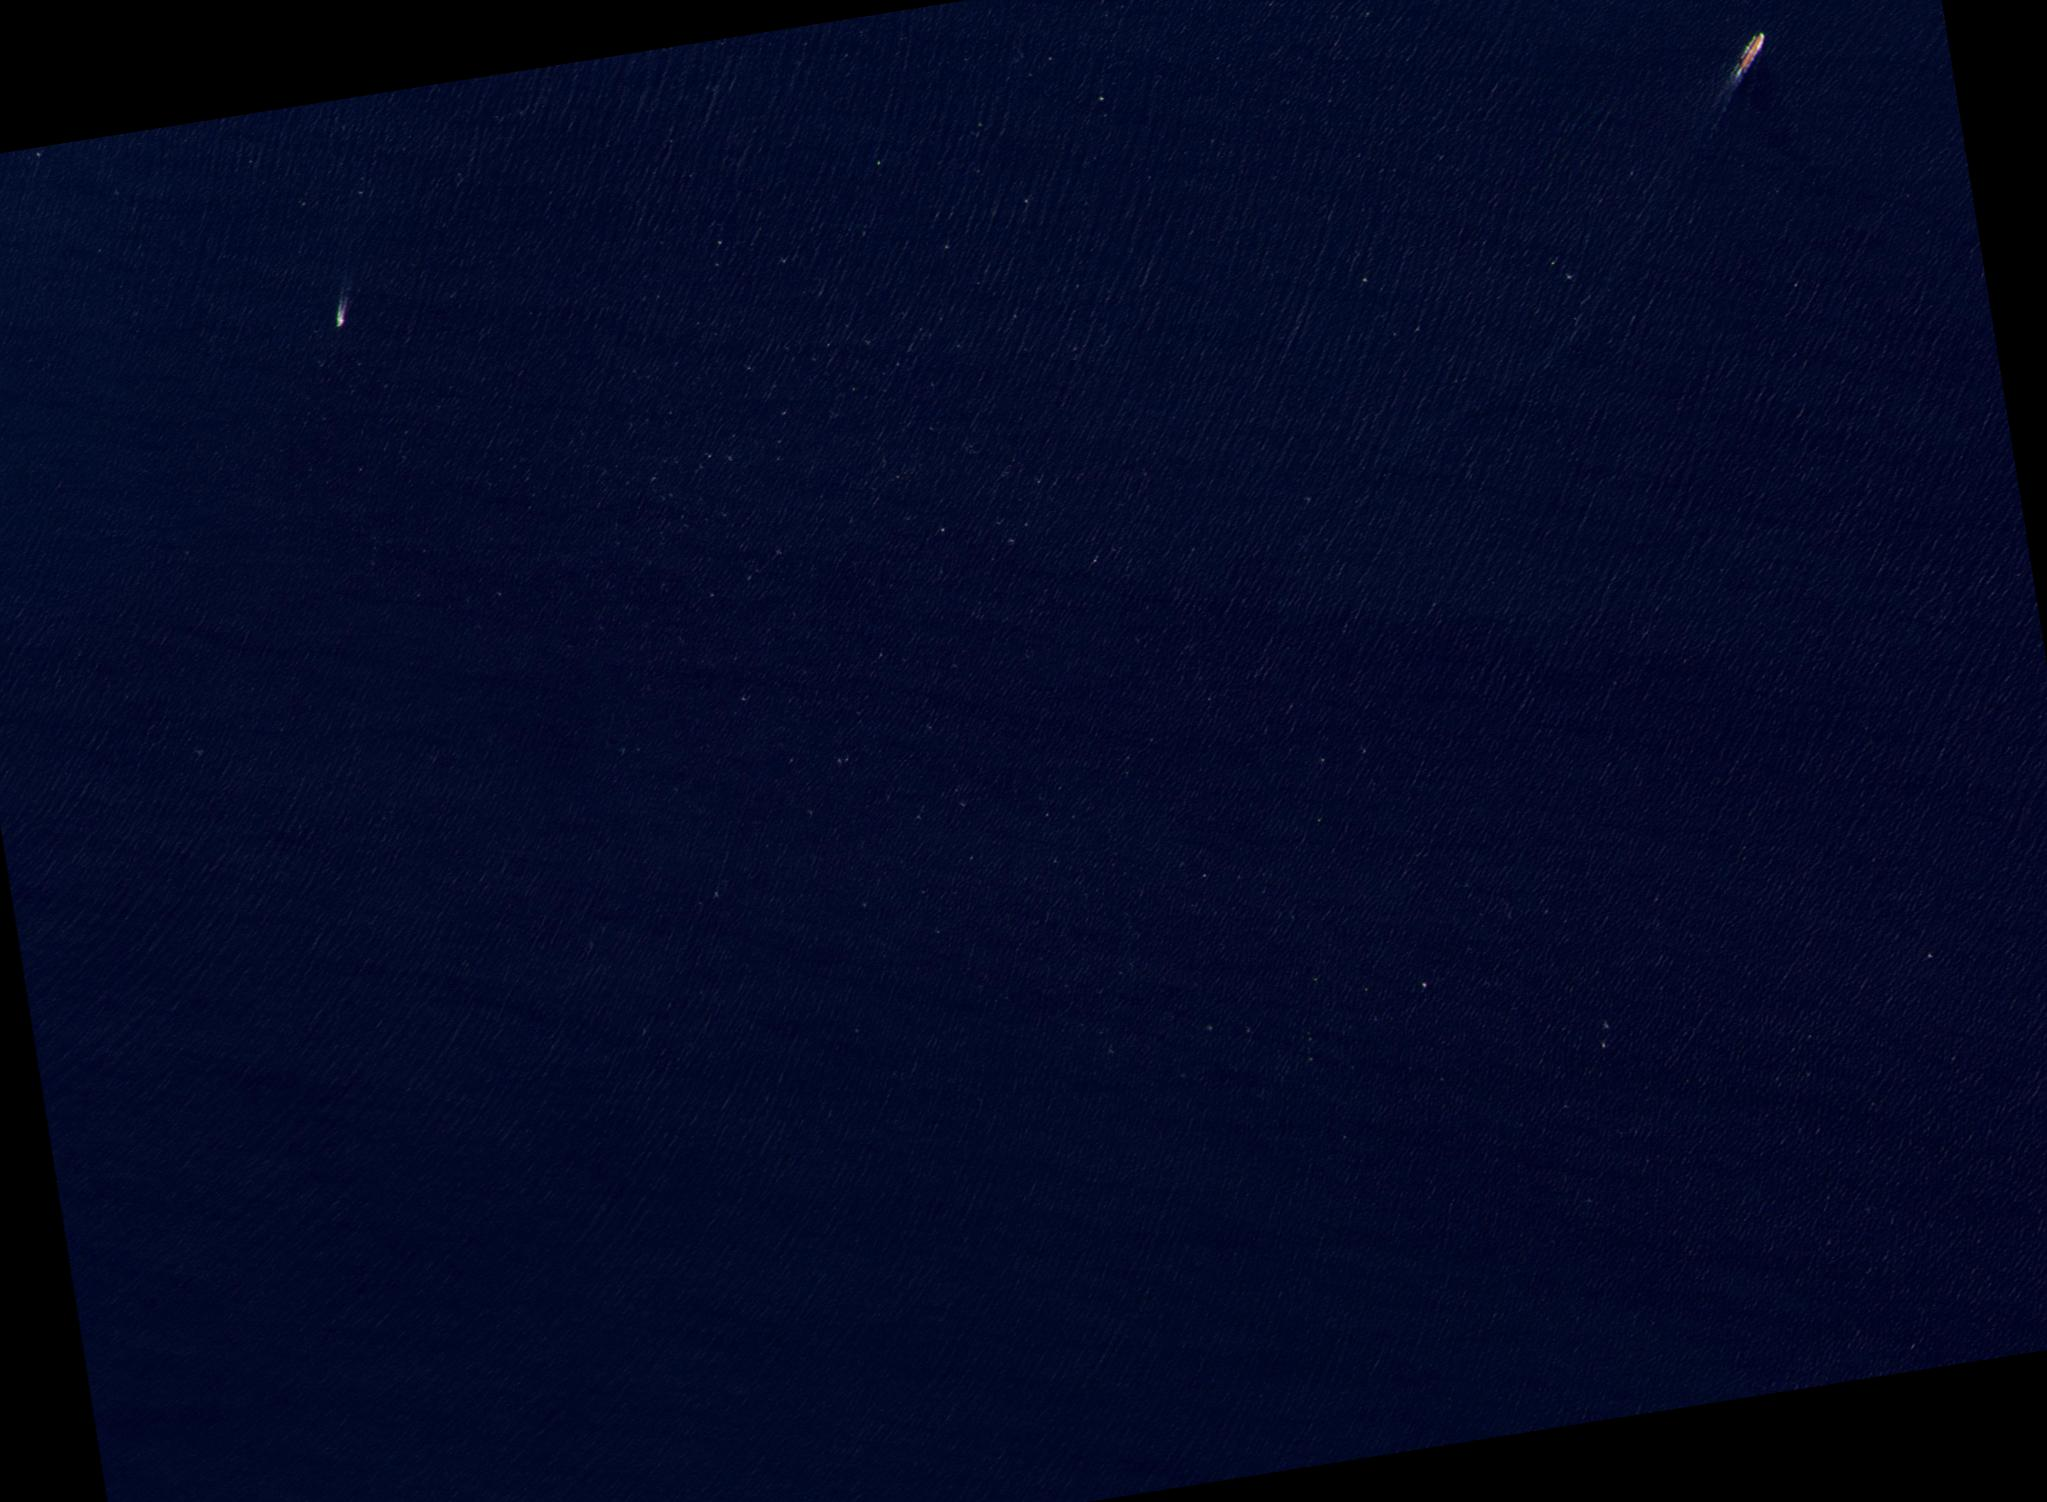ship: (1734, 32, 1767, 72), (334, 316, 343, 327)
